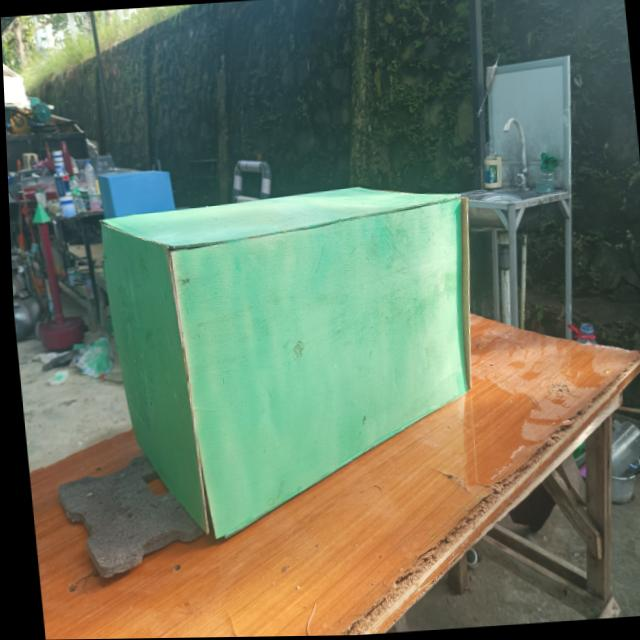green_box: (80, 181, 499, 541)
